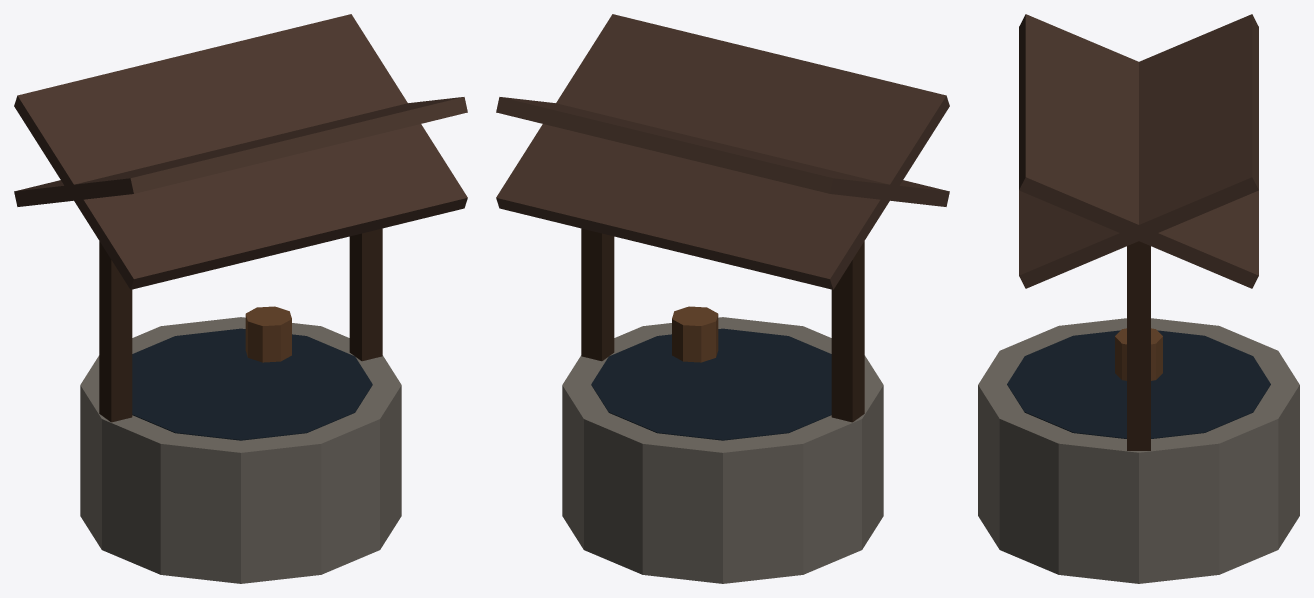
Rendered from well.glb.
The picture shows the model from 3 angles, left to right: view 1: azimuth 30°, elevation 25°; view 2: azimuth 150°, elevation 25°; view 3: azimuth 270°, elevation 25°; orthographic projection.
Parts seen in each view (by area): view 1: well; view 2: well; view 3: well.
Boxes of the visible parts, <box> form: well: <box>14,14,467,583</box>; well: <box>496,14,949,583</box>; well: <box>978,14,1299,583</box>.
Bounding box in the file's own units: 2.4 × 2.88 × 2.
